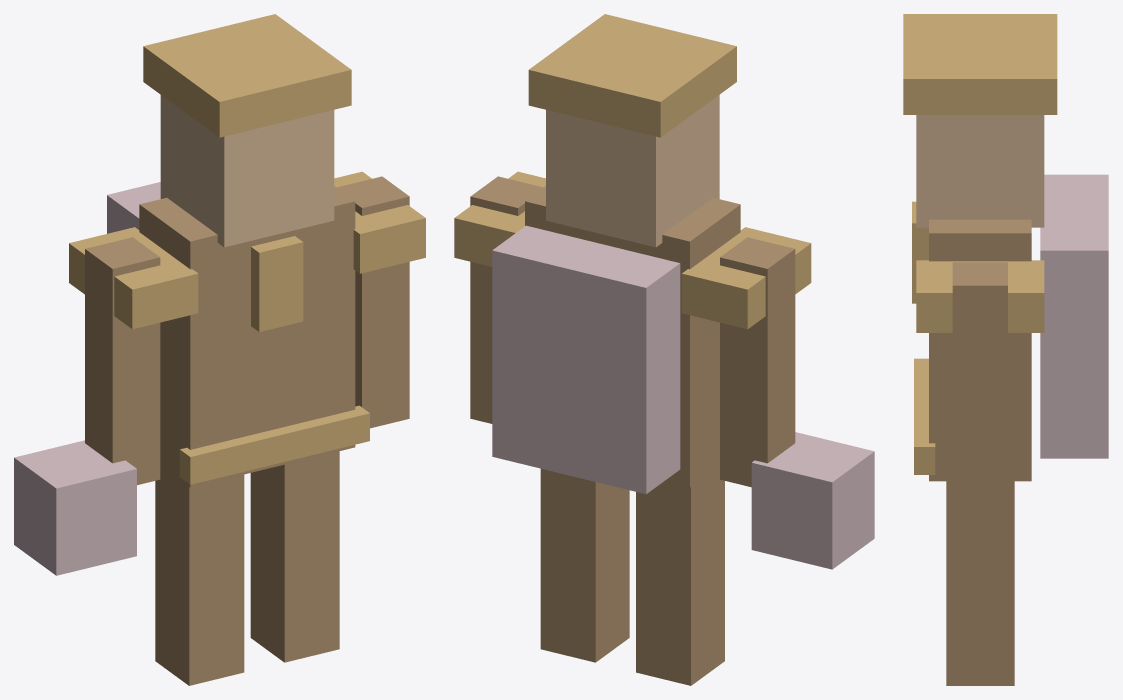
Rendered from 20_sarai_riftwalker_courier_at_resonance.glb.
3 views of the same model, side by side, from view 1: azimuth 30°, elevation 25°; view 2: azimuth 150°, elevation 25°; view 3: azimuth 270°, elevation 25° (orthographic).
Visible parts, largest first — view 1: Sarai Riftwalker, Courier at Resonance; view 2: Sarai Riftwalker, Courier at Resonance; view 3: Sarai Riftwalker, Courier at Resonance.
Boxes of the visible parts, x1,y1,x2,y2 form: Sarai Riftwalker, Courier at Resonance: [14, 14, 425, 685]; Sarai Riftwalker, Courier at Resonance: [454, 14, 874, 685]; Sarai Riftwalker, Courier at Resonance: [903, 14, 1108, 685].
Bounding box in the file's own units: 0.9321 × 1.46 × 0.4496.
